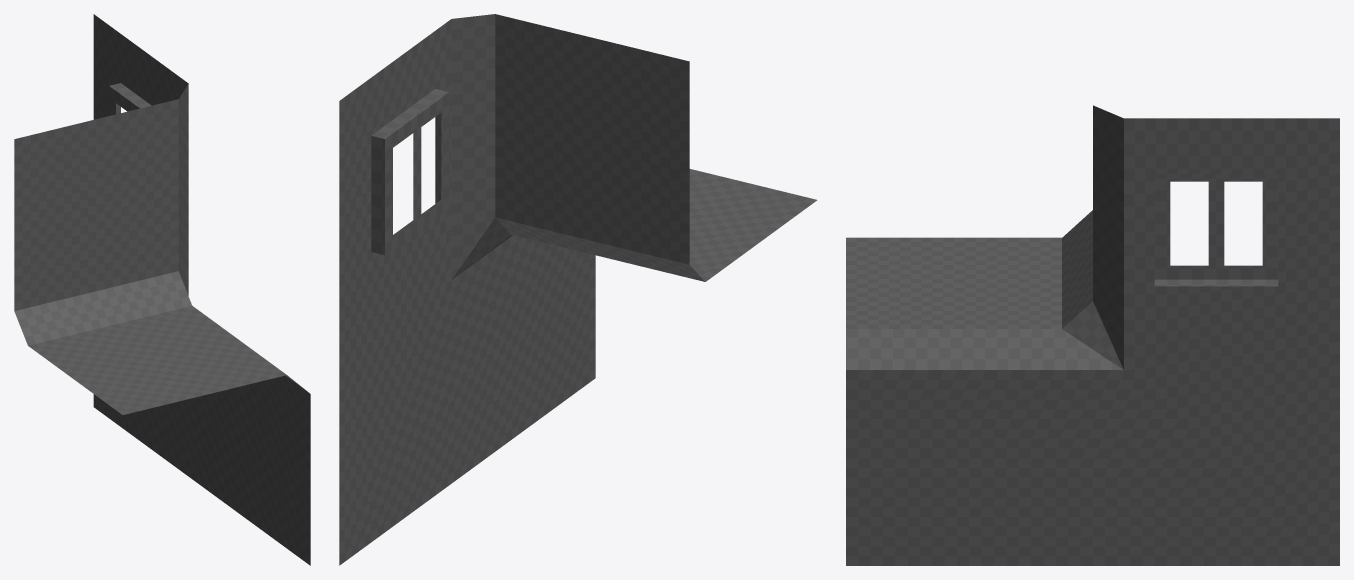
3 renders of one model, left to right at view 1: azimuth 30°, elevation 25°; view 2: azimuth 150°, elevation 25°; view 3: azimuth 270°, elevation 25°, orthographic. The views are drawn at different scales.
Parts seen in each view (by area): view 1: CubeDownBackLeft2V1; view 2: CubeDownBackLeft2V1; view 3: CubeDownBackLeft2V1.
Part boxes in pixels (bbox=[...]): CubeDownBackLeft2V1: bbox=[14, 14, 310, 565]; CubeDownBackLeft2V1: bbox=[339, 14, 817, 565]; CubeDownBackLeft2V1: bbox=[846, 105, 1339, 565].
Bounding box in the file's own units: 2 × 4 × 4.
1 material, 1 textured.
